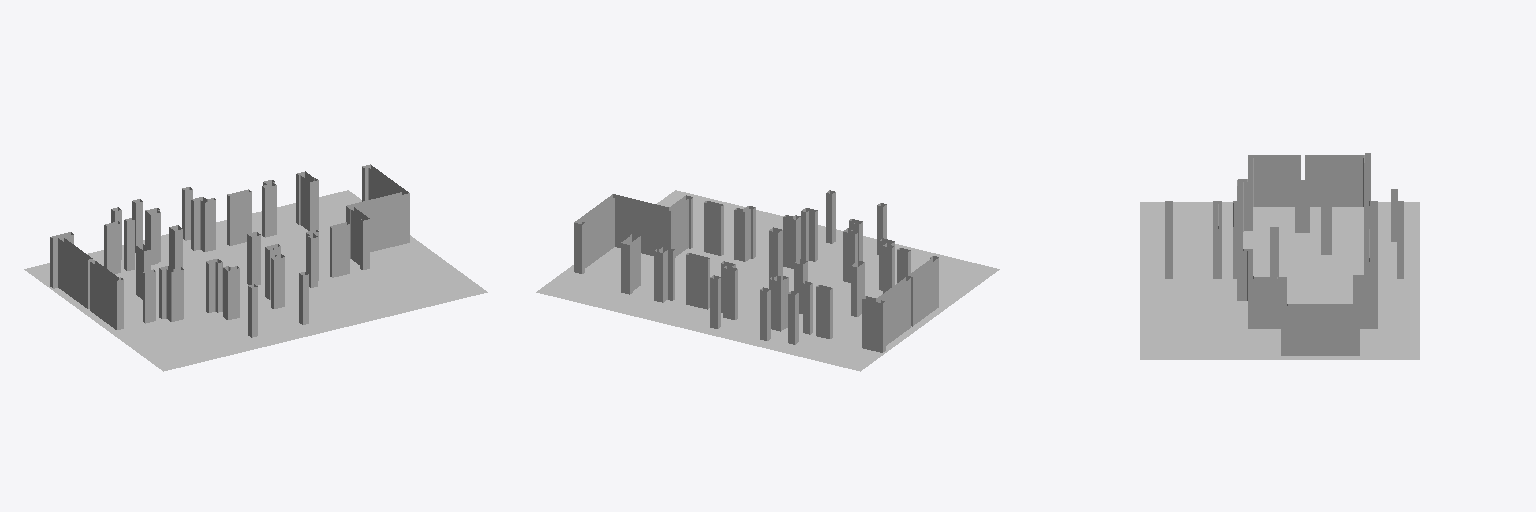
Rendered from floorplan3.obj.
3 views of the same model, side by side, from view 1: azimuth 30°, elevation 25°; view 2: azimuth 150°, elevation 25°; view 3: azimuth 270°, elevation 25° (orthographic).
Visible parts, largest first — view 1: Floor, Room0, Box17Wall108, Box11Wall81, Box14Wall95, Box7Wall47, Box16Wall104, Box3Wall16, Room1, Box8Wall57, Box18Wall135, Box22Wall169 (+4 smaller); view 2: Floor, Room0, Box17Wall116, Box17Wall114, Box14Wall95, Box11Wall81, Box7Wall45, Box11Wall77, Box16Wall102, Box3Wall14, Box21Wall160, Box6Wall38 (+2 smaller); view 3: Floor, Room0, Box17Wall109, Box11Wall73, Box14Wall93, Box17Wall106, Box9Wall61, Room1, Box12Wall82, Box10Wall68.
Boxes of the visible parts, x1=… form: Floor: x1=24, y1=190, x2=487, y2=371; Room0: x1=116, y1=226, x2=390, y2=324; Box17Wall108: x1=355, y1=193, x2=409, y2=251; Box11Wall81: x1=58, y1=238, x2=87, y2=308; Box14Wall95: x1=90, y1=262, x2=116, y2=329; Box7Wall47: x1=230, y1=191, x2=251, y2=245; Box16Wall104: x1=332, y1=224, x2=349, y2=277; Box3Wall16: x1=107, y1=223, x2=120, y2=273; Room1: x1=235, y1=308, x2=297, y2=331; Box8Wall57: x1=265, y1=185, x2=276, y2=237; Box18Wall135: x1=172, y1=270, x2=183, y2=321; Box22Wall169: x1=228, y1=268, x2=239, y2=319; Floor: x1=536, y1=190, x2=999, y2=371; Room0: x1=585, y1=248, x2=882, y2=343; Box17Wall116: x1=615, y1=197, x2=670, y2=255; Box17Wall114: x1=582, y1=198, x2=614, y2=267; Box14Wall95: x1=913, y1=258, x2=938, y2=325; Box11Wall81: x1=882, y1=278, x2=910, y2=345; Box7Wall45: x1=686, y1=255, x2=707, y2=309; Box11Wall77: x1=862, y1=299, x2=882, y2=352; Box16Wall102: x1=704, y1=203, x2=720, y2=255; Box3Wall14: x1=816, y1=287, x2=829, y2=338; Box21Wall160: x1=783, y1=217, x2=795, y2=268; Box6Wall38: x1=723, y1=268, x2=734, y2=319; Floor: x1=1140, y1=202, x2=1419, y2=359; Room0: x1=1244, y1=208, x2=1362, y2=346; Box17Wall109: x1=1281, y1=306, x2=1359, y2=355; Box11Wall73: x1=1305, y1=158, x2=1362, y2=206; Box14Wall93: x1=1254, y1=158, x2=1300, y2=206; Box17Wall106: x1=1248, y1=279, x2=1280, y2=328; Box9Wall61: x1=1360, y1=279, x2=1377, y2=328; Room1: x1=1174, y1=254, x2=1211, y2=274; Box12Wall82: x1=1295, y1=183, x2=1309, y2=232; Box10Wall68: x1=1321, y1=206, x2=1331, y2=254.
Bounding box in the file's own units: 6.84 × 1 × 5.1.